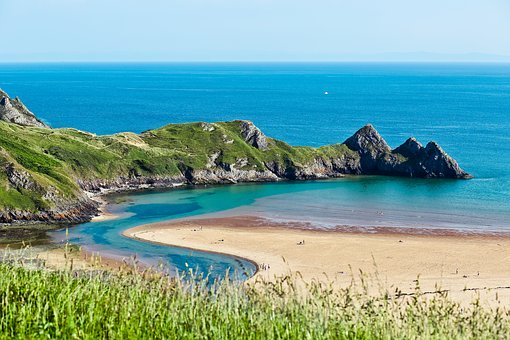mountain: (3, 110, 439, 177)
sea: (46, 53, 504, 307)
sky: (1, 1, 509, 65)
